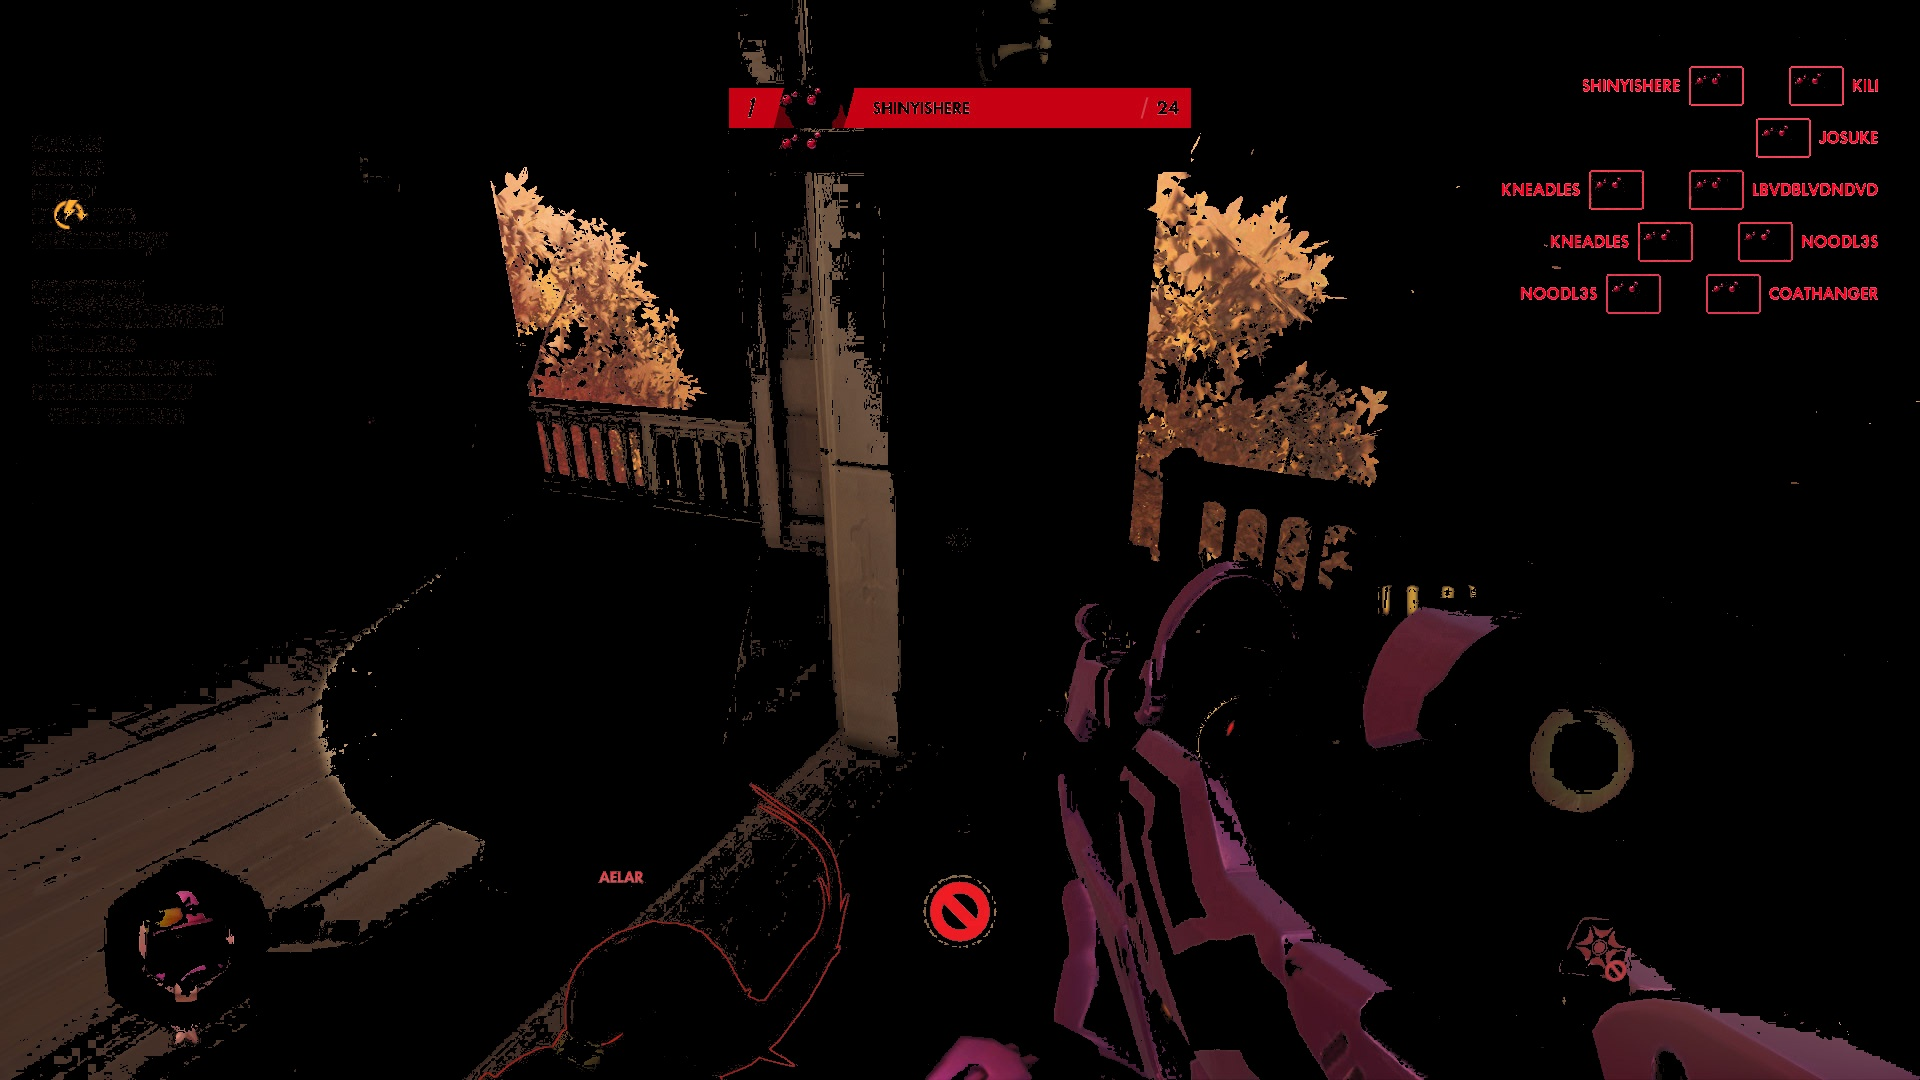widowmaker: (477, 915, 785, 1080)
